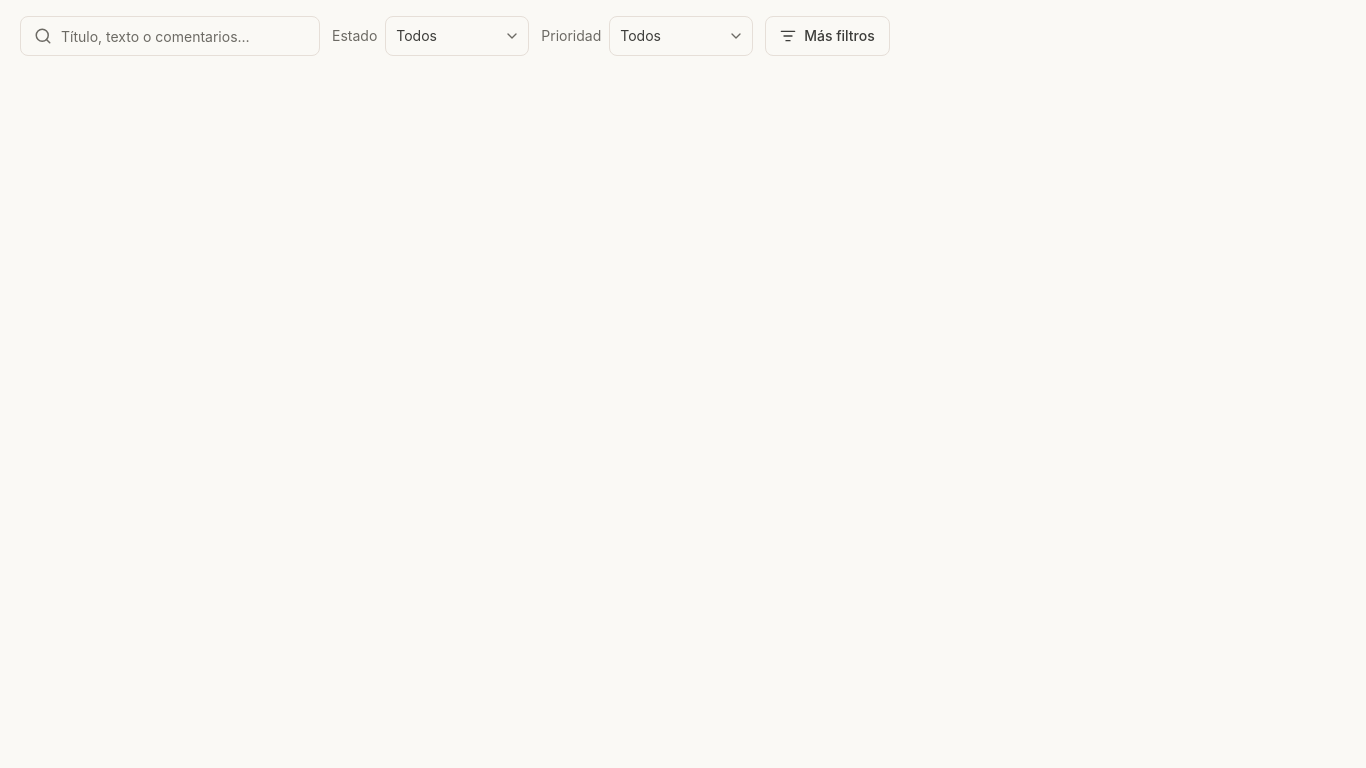
Test case: TicketsFilters › selectores › el filtro de área deja al final, sin grupo, las áreas de un tipo desconocido
Click the button "Más filtros" at (827, 36), box 765,16 -> 890,56
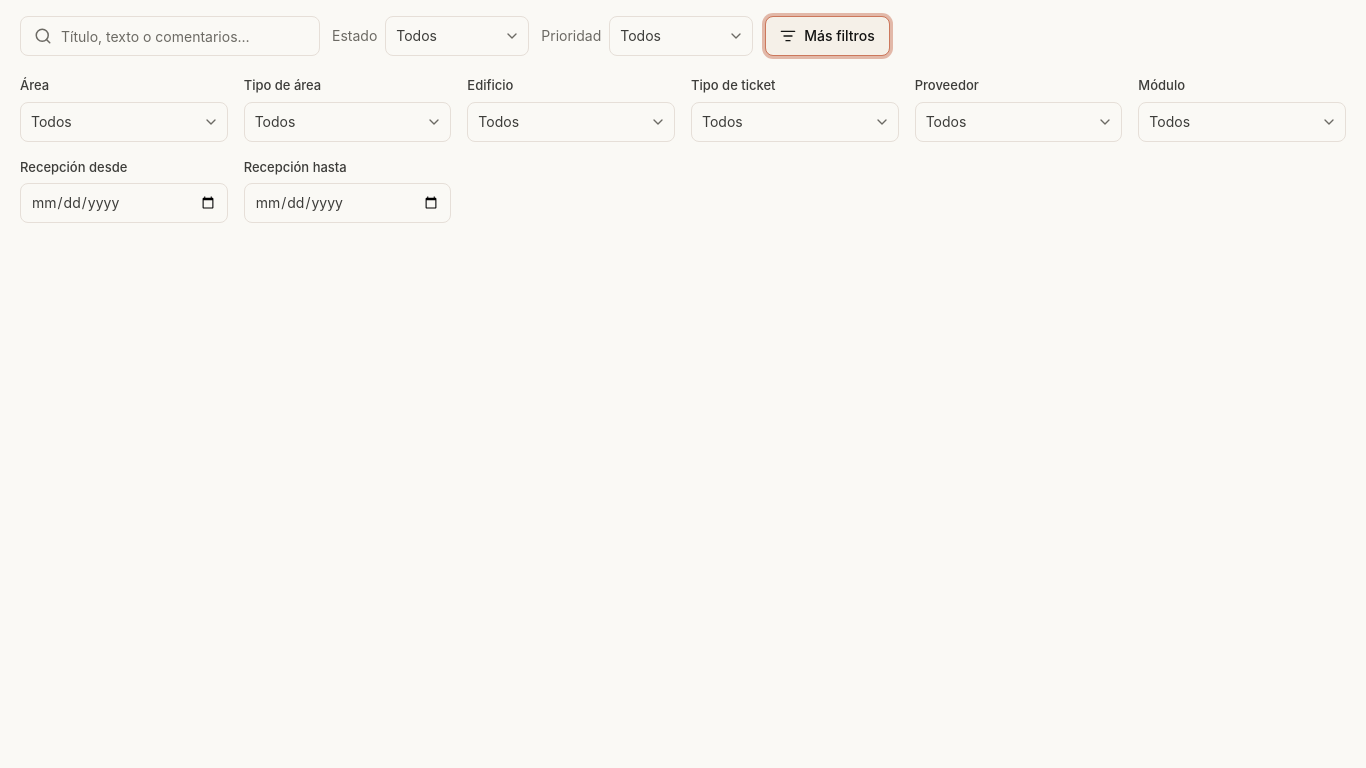
Click the dropdown named "Área" at (124, 122), box 20,102 -> 228,142
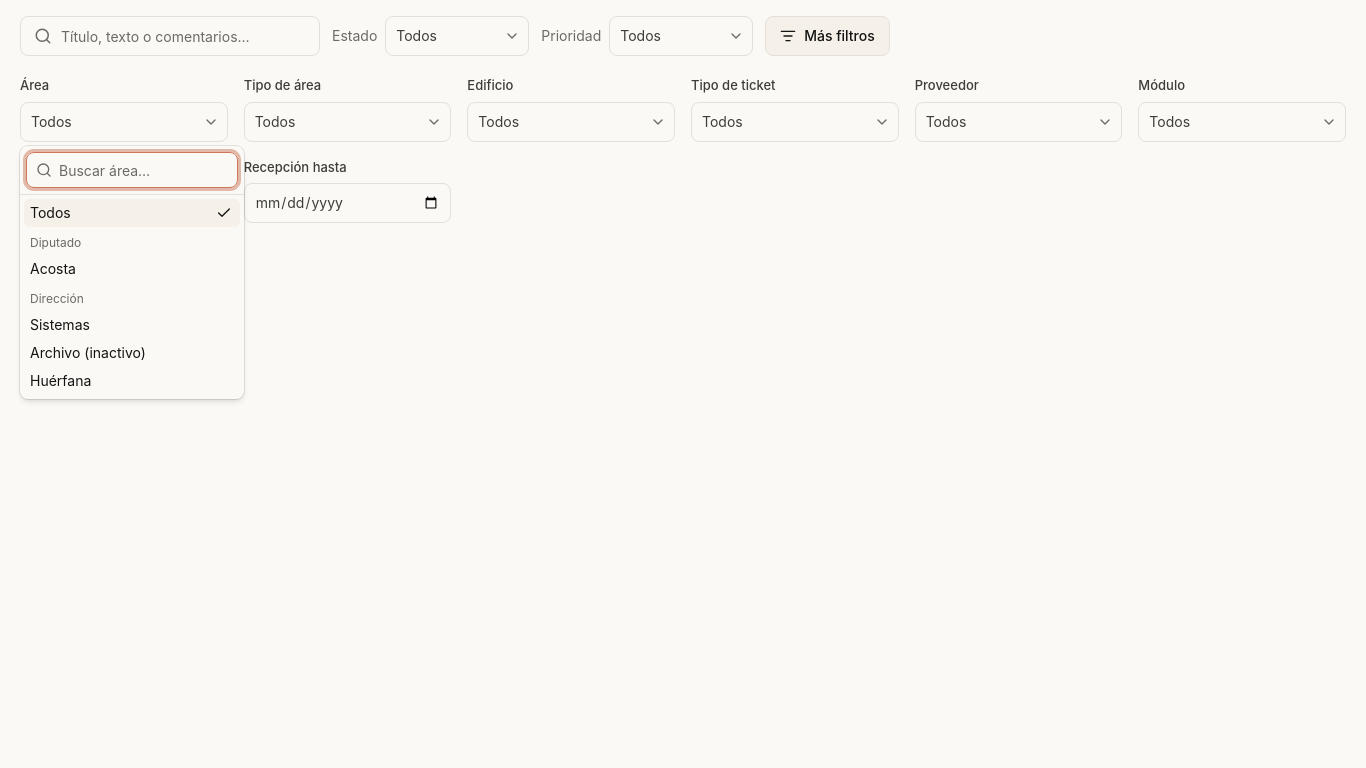
Expected: the option "Huérfana" is shown, 30,372 -> 91,389
